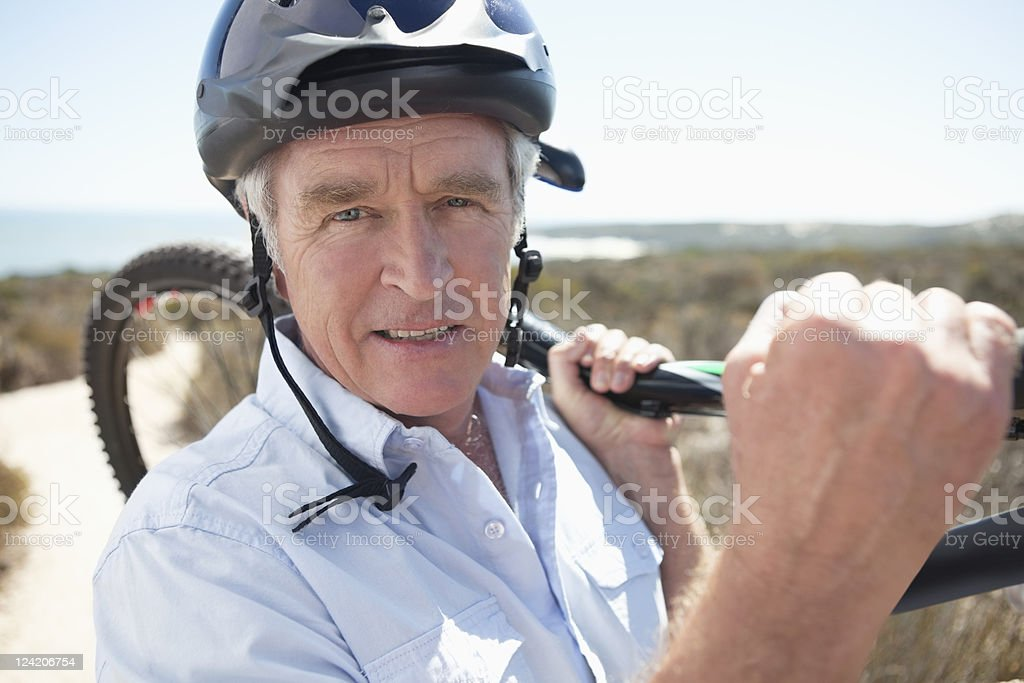helmet: (193, 1, 557, 418)
